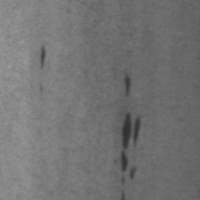inclusion: (118, 111, 142, 199), (36, 41, 51, 71), (121, 68, 135, 100)
